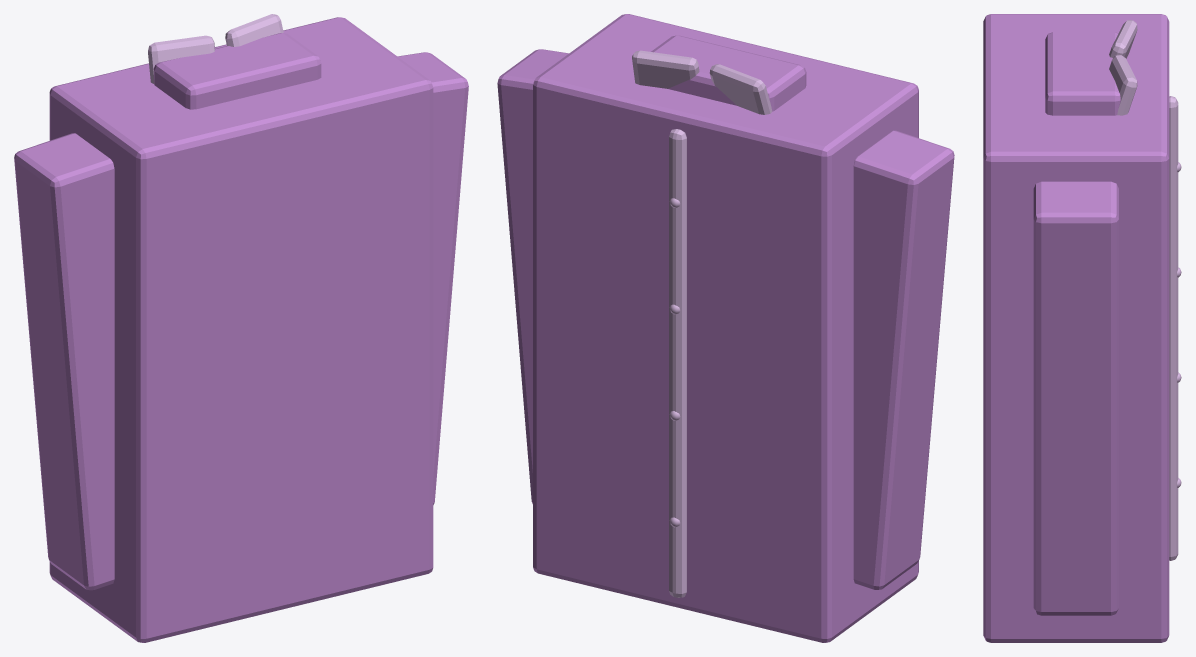
Rendered from VM-CAB-EXT85.glb.
3 renders of one model, left to right at view 1: azimuth 30°, elevation 25°; view 2: azimuth 150°, elevation 25°; view 3: azimuth 270°, elevation 25°, orthographic.
Parts seen in each view (by area): view 1: Camisa Escocesa Hombre; view 2: Camisa Escocesa Hombre; view 3: Camisa Escocesa Hombre.
Boxes of the visible parts, x1,y1,x2,y2 form: Camisa Escocesa Hombre: (14,14,468,642); Camisa Escocesa Hombre: (497,14,954,642); Camisa Escocesa Hombre: (983,14,1181,642).
Size of the model in its own units: 0.6769 by 0.8167 by 0.2794.
